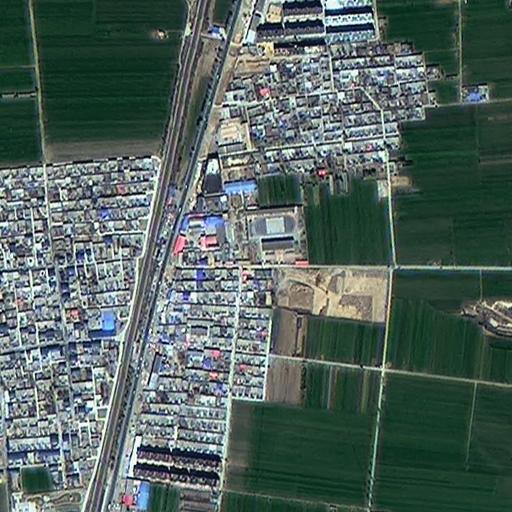school: (244, 206, 309, 265)
